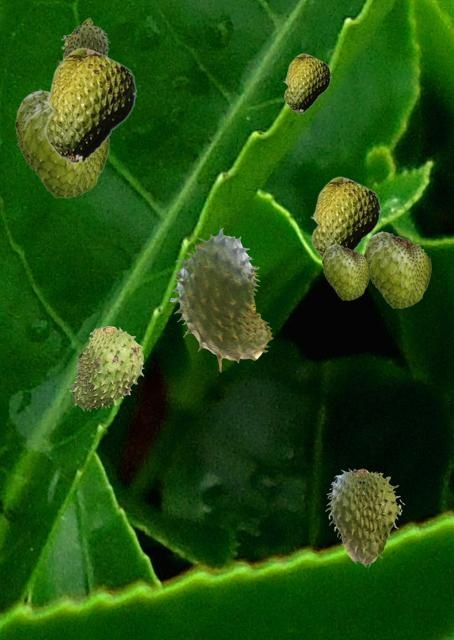guyabano: (170, 228, 272, 371), (43, 47, 136, 164), (15, 88, 108, 197), (325, 468, 404, 566), (68, 326, 143, 410), (310, 176, 380, 257), (364, 230, 430, 307), (283, 53, 330, 113), (322, 243, 369, 299), (61, 17, 109, 58)
